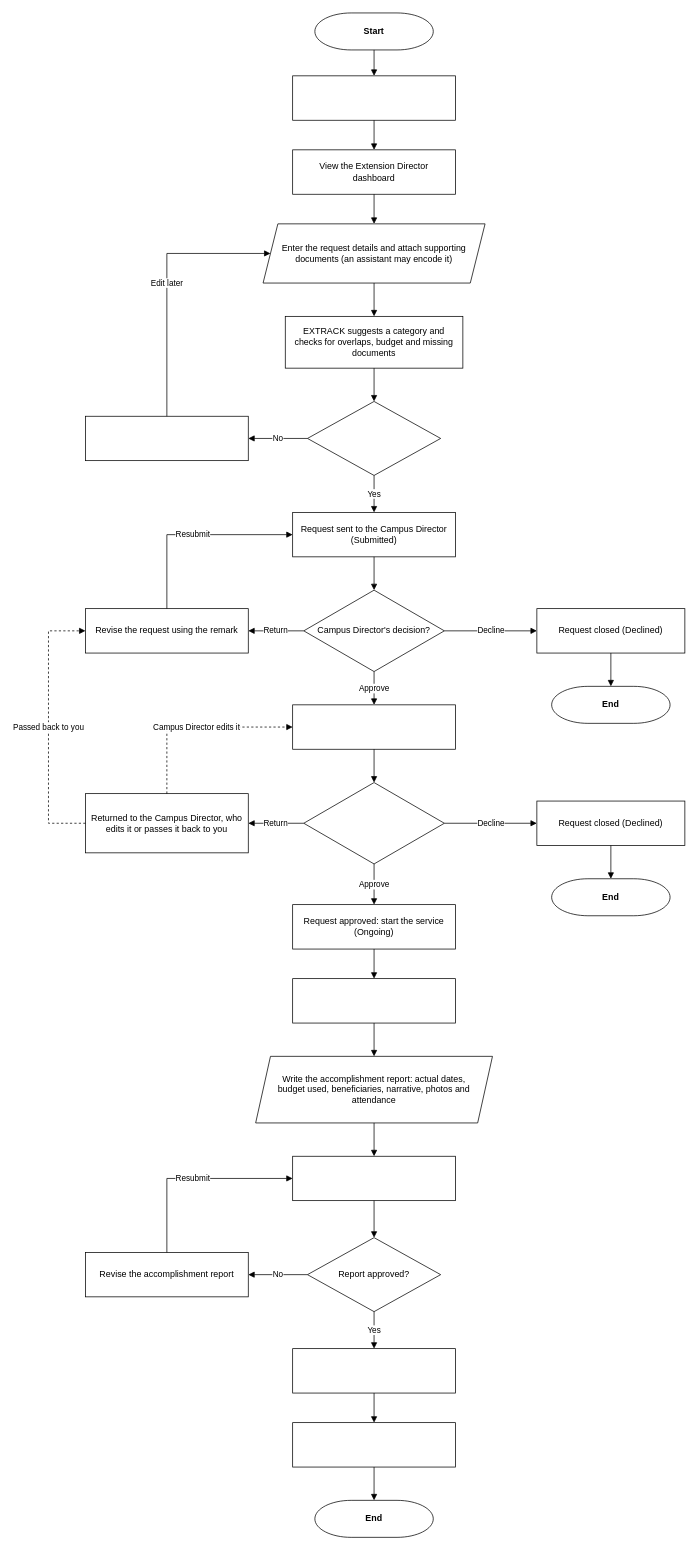
Some shapes in this 698 by 1550 pixel diagram are drawn without their labels. The shapes that lost their labels are listed below. From the top down, each one's box as (x1, y1, x2, y2) in pixels, then its label:
(292, 75, 455, 120): Log in to EXTRACK
(85, 416, 248, 461): Save as draft
(307, 401, 441, 475): Submit now?
(292, 704, 455, 749): Forwarded to the University President (For President)
(303, 782, 444, 864): President's decision?
(292, 978, 455, 1023): Carry out the extension service
(292, 1156, 455, 1201): Submit the report to the Campus Director
(292, 1348, 455, 1393): Service marked Completed
(292, 1422, 455, 1467): Moved to the Archive after one year
